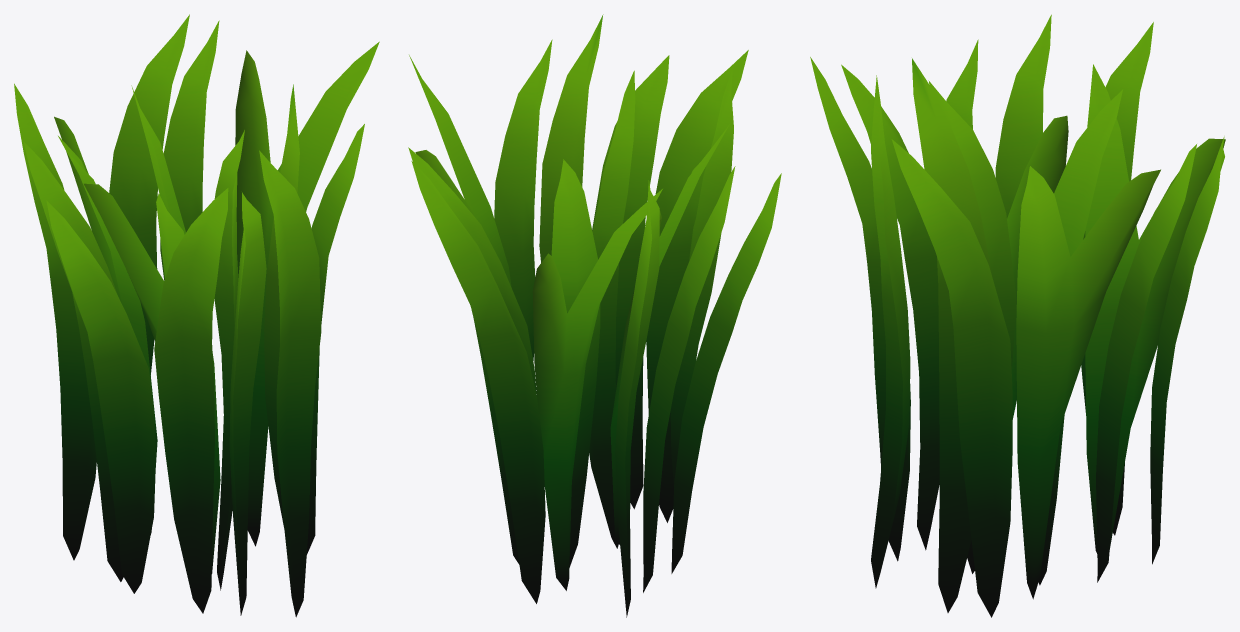
File: Grass_Wide_Tall.gltf
The picture shows the model from 3 angles, left to right: view 1: azimuth 30°, elevation 25°; view 2: azimuth 150°, elevation 25°; view 3: azimuth 270°, elevation 25°; orthographic projection. The views are drawn at different scales.
Visible parts, largest first — view 1: Grass_Wide_Tall; view 2: Grass_Wide_Tall; view 3: Grass_Wide_Tall.
Boxes of the visible parts, left/top/right/bottom form: Grass_Wide_Tall: left=14, top=14, right=379, bottom=617; Grass_Wide_Tall: left=408, top=14, right=781, bottom=617; Grass_Wide_Tall: left=810, top=14, right=1225, bottom=617.
Bounding box in the file's own units: 1.15 × 1.61 × 1.11.
Materials: 1 (1 with a texture image).
